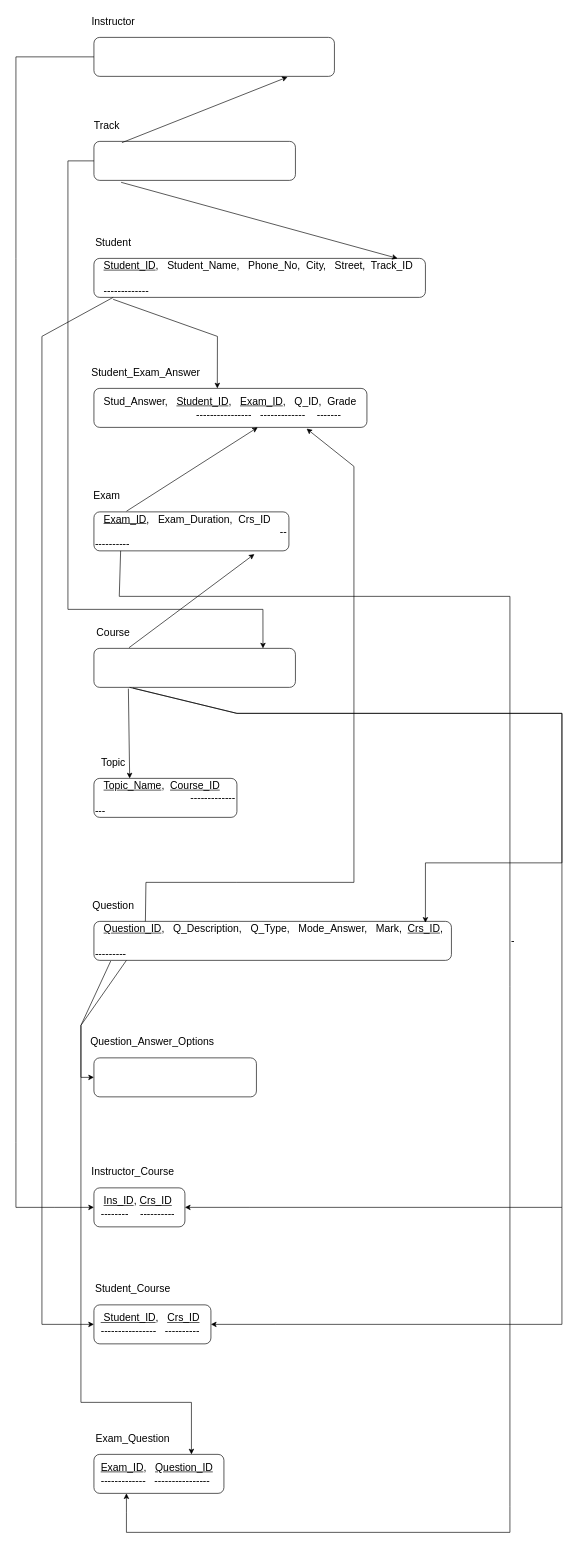
The diagram is 579 pixels wide and 1549 high, and some of its shapes have lost their labels. Here are the shapes that lost their labels. From the top down, the centre of each, then its label:
At pixel 213 56: "Ins_ID , Ins_Name, Hiring_Date, Track_ID --------------".
At pixel 194 160: "Track_ID , Track_Name, MaxNoStud".
At pixel 194 667: "Course_ID , Course_Name, Track_ID -------------".
At pixel 174 1077: "Question_ID , Q_Ans_Option ----------------".
